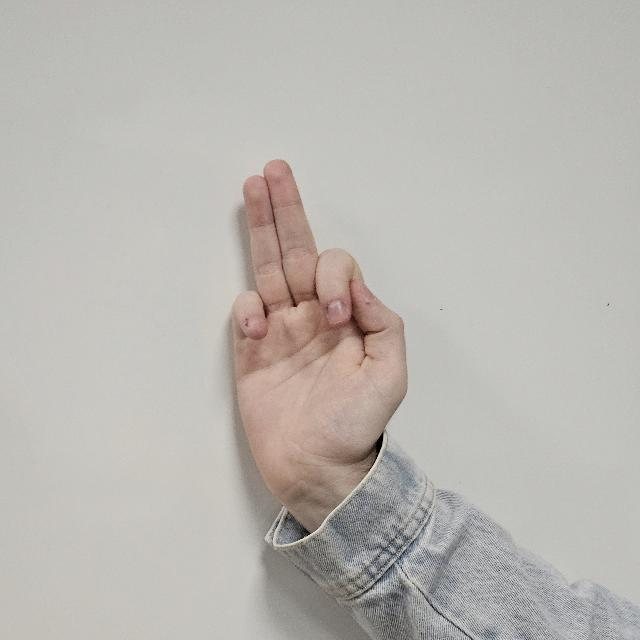R: (226, 161, 408, 503)
